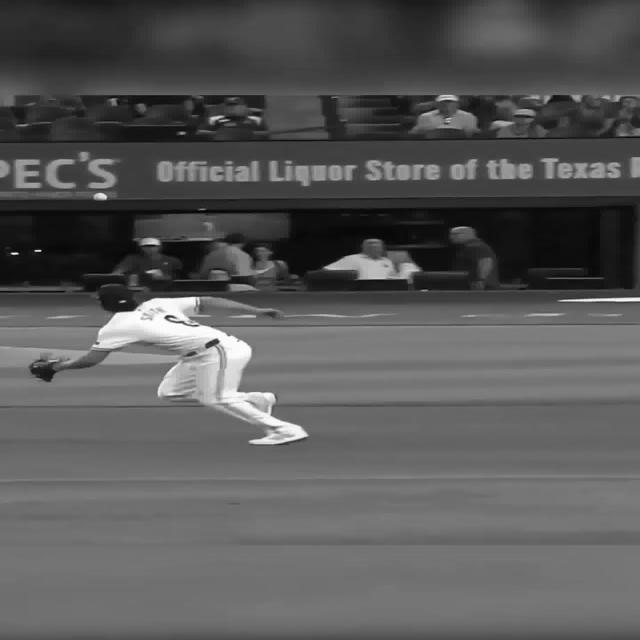baseball: (93, 192, 107, 201)
baseball_glove: (27, 356, 69, 382)
shoe: (248, 423, 308, 445), (245, 392, 275, 416), (260, 392, 276, 416), (162, 394, 198, 402)
